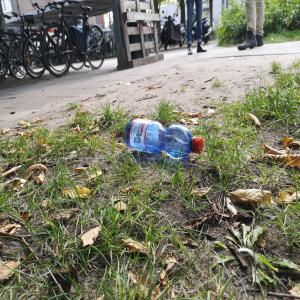Plastic-bottle: (124, 118, 205, 162)
